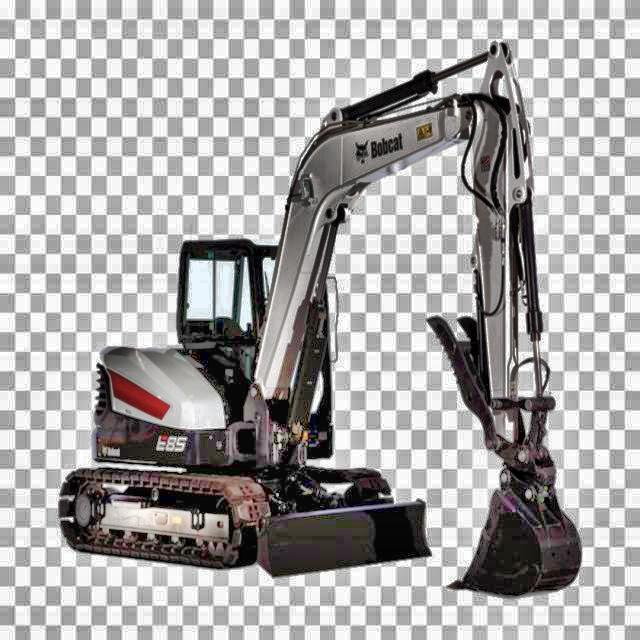excavator: (55, 37, 582, 603)
